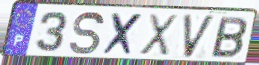3: (35, 11, 71, 54)
B: (208, 16, 249, 60)
S: (68, 10, 106, 57)
V: (181, 13, 218, 61)
X: (101, 12, 145, 58), (138, 13, 180, 59)
